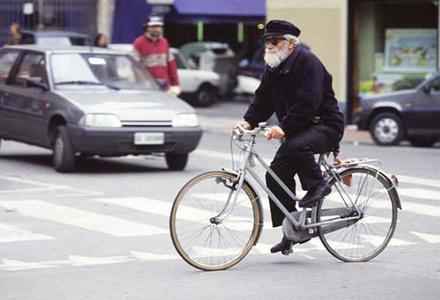person: (235, 18, 346, 255)
